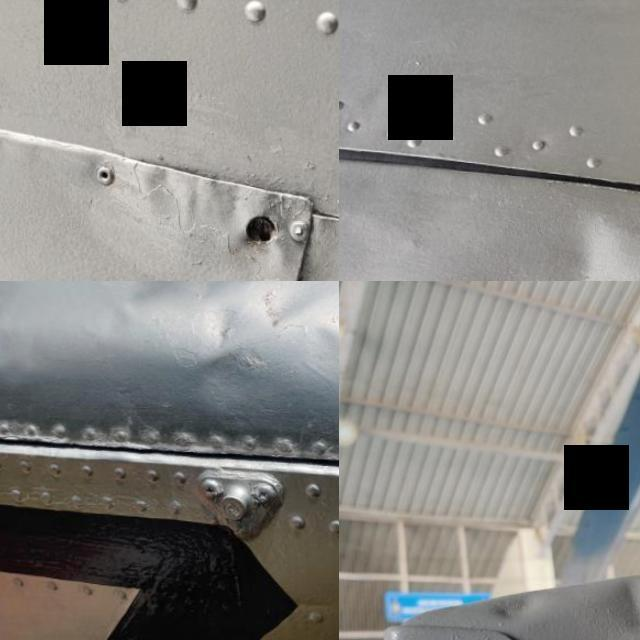Dent: (406, 206, 640, 281), (98, 281, 299, 328), (190, 340, 264, 418), (0, 296, 36, 394), (602, 569, 640, 640), (486, 582, 542, 628)
Missing_Fastener: (193, 151, 332, 281)
